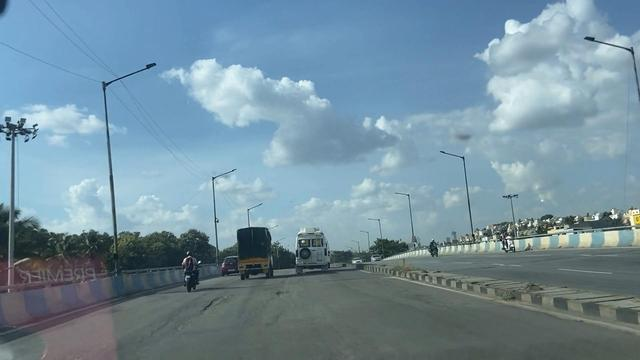HMV: (231, 223, 275, 284), (289, 226, 335, 278)
LMV: (183, 245, 209, 290), (220, 251, 238, 277)
RoadDamages: (183, 291, 270, 340), (275, 278, 297, 304)
